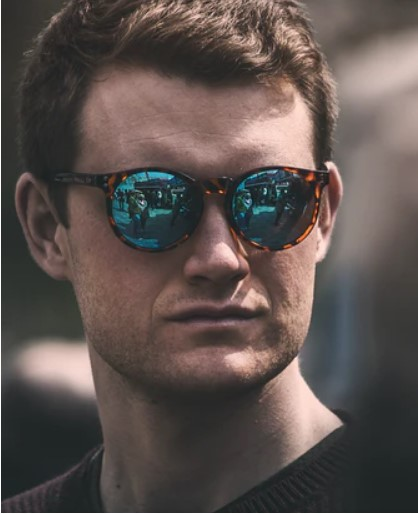face_no_mask: (39, 19, 322, 394)
